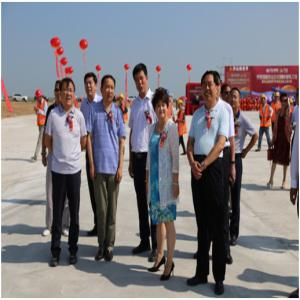none: (201, 72, 219, 107), (133, 63, 149, 98), (153, 88, 169, 123), (60, 78, 77, 110), (101, 75, 117, 105), (84, 73, 99, 100), (229, 87, 241, 112), (221, 82, 232, 103), (55, 82, 62, 105), (281, 93, 289, 110)
red: (35, 90, 44, 104)
yellow: (178, 100, 184, 112), (261, 94, 267, 105), (275, 92, 281, 103), (120, 93, 125, 104)
